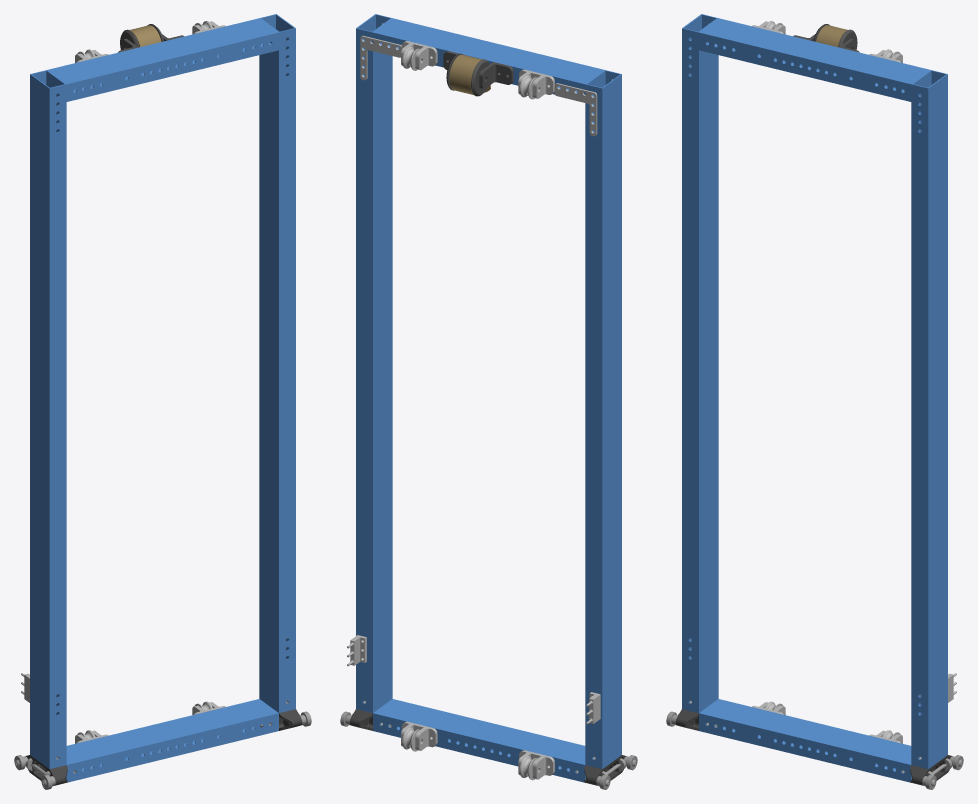
The picture shows the model from 3 angles, left to right: view 1: azimuth 30°, elevation 25°; view 2: azimuth 150°, elevation 25°; view 3: azimuth 330°, elevation 25°; orthographic projection.
Parts seen in each view (by area): view 1: First stage vertical beam v8:1, First stage vertical beam v8:2, First stage horizontal beam v7:2, First stage horizontal beam v7:1; view 2: First stage vertical beam v8:1, First stage vertical beam v8:2, First stage horizontal beam v7:1, First stage horizontal beam v7:2, Constant Force Spring 50 in Travel 16.5 lbs ELEV-SPRING-002 , Skinny elevator gusset v1:2, Skinny elevator gusset v1:1, Constant Force Spring Bracket ELEV-SPRING-001 (1) v1:2, Pulley bracket v1:1, Pulley bracket v1:2, Pulley bracket v1:4, Pulley bracket v1:3; view 3: First stage vertical beam v8:2, First stage vertical beam v8:1, First stage horizontal beam v7:2, First stage horizontal beam v7:1.
Part boxes in pixels (x1=…): First stage vertical beam v8:1: x1=30, y1=70, x2=66, y2=769; First stage vertical beam v8:2: x1=259, y1=14, x2=295, y2=712; First stage horizontal beam v7:2: x1=47, y1=18, x2=278, y2=101; First stage horizontal beam v7:1: x1=66, y1=699, x2=278, y2=782; First stage vertical beam v8:1: x1=585, y1=70, x2=621, y2=769; First stage vertical beam v8:2: x1=356, y1=14, x2=392, y2=712; First stage horizontal beam v7:1: x1=373, y1=699, x2=585, y2=782; First stage horizontal beam v7:2: x1=373, y1=18, x2=604, y2=94; Constant Force Spring 50 in Travel 16.5 lbs ELEV-SPRING-002 : x1=449, y1=54, x2=490, y2=94; Skinny elevator gusset v1:2: x1=554, y1=83, x2=597, y2=136; Skinny elevator gusset v1:1: x1=360, y1=35, x2=401, y2=80; Constant Force Spring Bracket ELEV-SPRING-001 (1) v1:2: x1=479, y1=62, x2=513, y2=89; Pulley bracket v1:1: x1=401, y1=41, x2=437, y2=70; Pulley bracket v1:2: x1=518, y1=69, x2=554, y2=98; Pulley bracket v1:4: x1=518, y1=750, x2=554, y2=779; Pulley bracket v1:3: x1=401, y1=721, x2=437, y2=750; First stage vertical beam v8:2: x1=911, y1=70, x2=947, y2=769; First stage vertical beam v8:1: x1=682, y1=14, x2=718, y2=712; First stage horizontal beam v7:2: x1=699, y1=18, x2=930, y2=101; First stage horizontal beam v7:1: x1=699, y1=699, x2=911, y2=782.
Bounding box in the file's own units: 0.398 × 1.01 × 0.1212.
